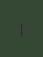one: (19, 20, 22, 36)
